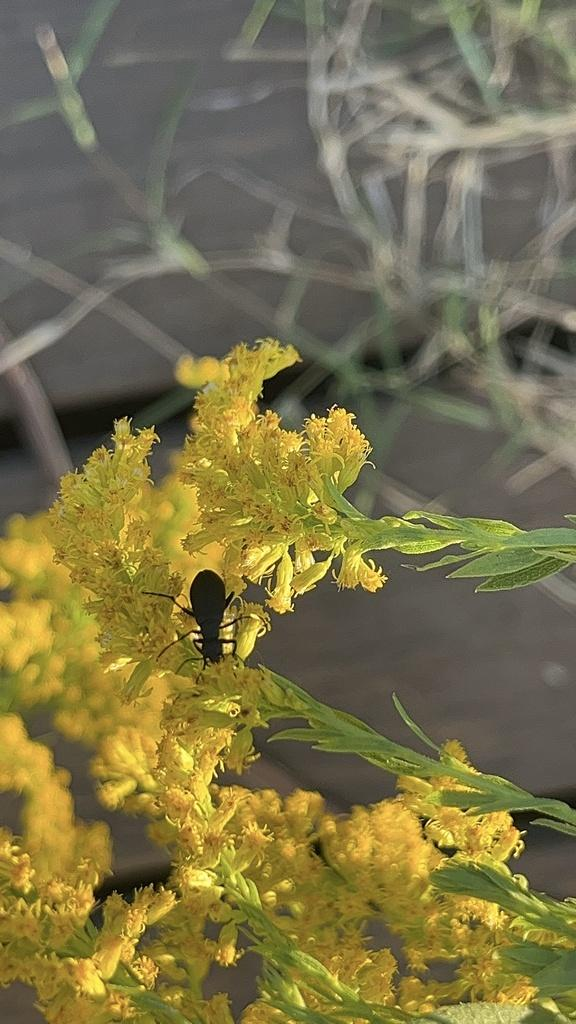blister_beetle: (124, 547, 266, 702)
